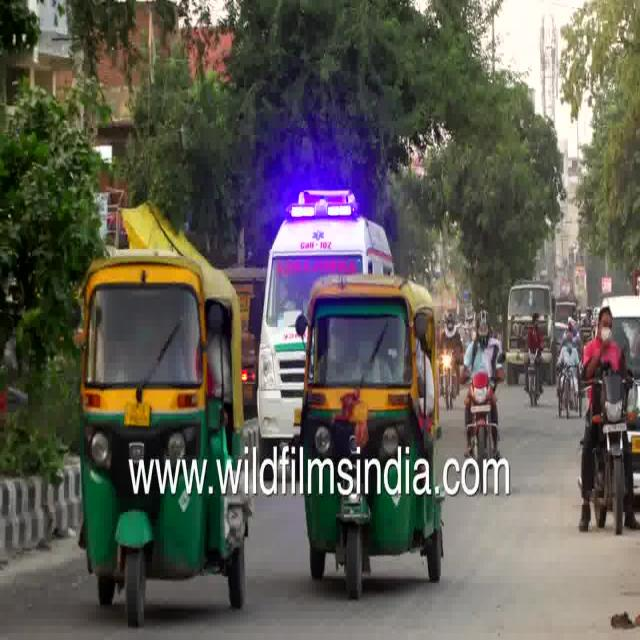ambulance: (260, 179, 397, 281)
